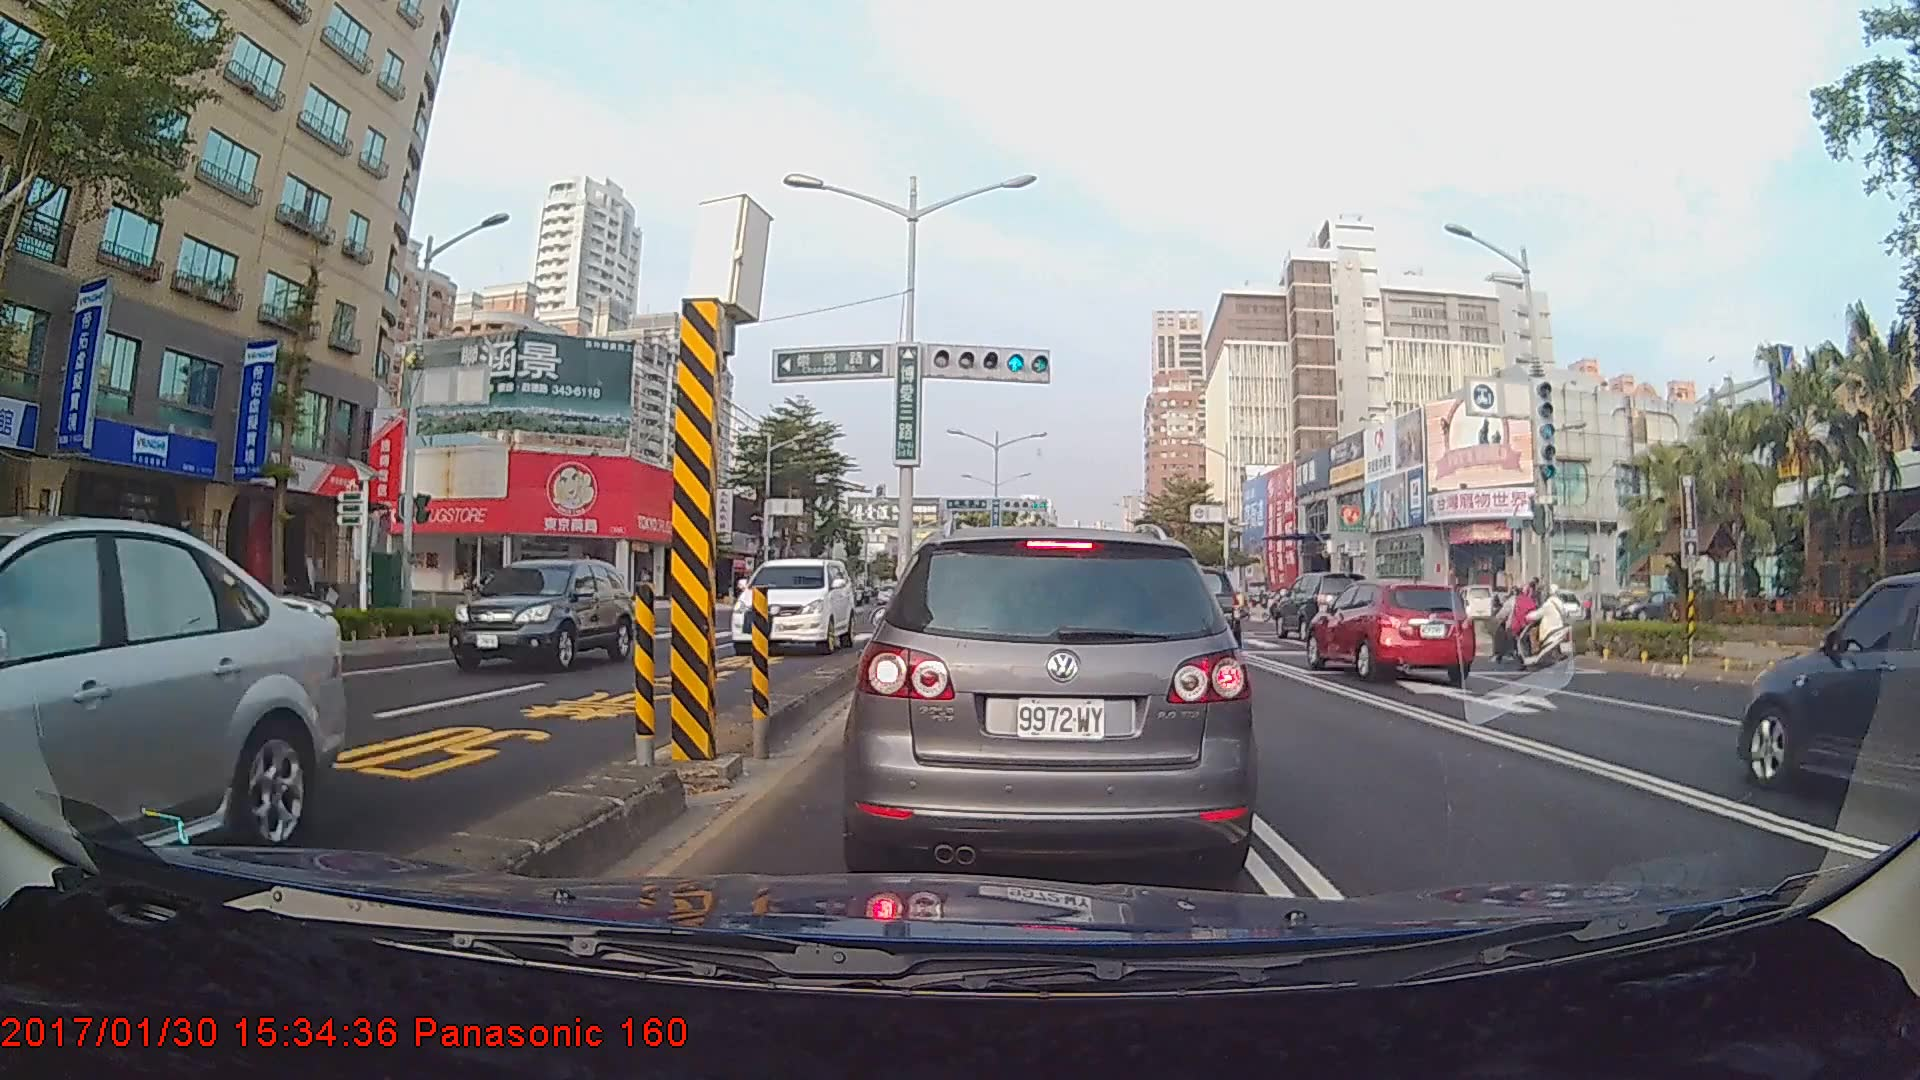rider: (1508, 586, 1578, 683), (1485, 582, 1548, 668)
vehicle: (0, 514, 347, 936), (855, 521, 1249, 883), (1739, 570, 1919, 824), (444, 556, 633, 672), (1303, 577, 1476, 685), (728, 557, 855, 654), (1138, 563, 1241, 668), (1272, 569, 1369, 639)
